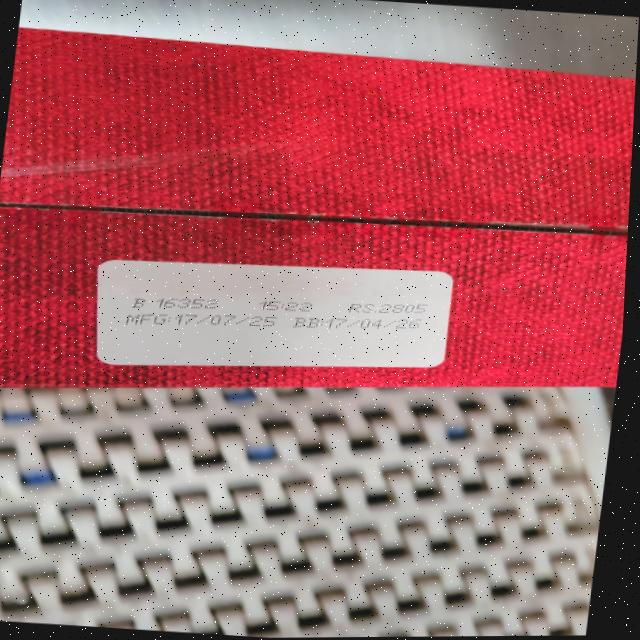Batch: (129, 292, 221, 314)
MFG: (125, 306, 273, 333), (293, 311, 428, 337)
RS: (346, 298, 431, 318)
TimeStamp: (258, 299, 315, 313)
